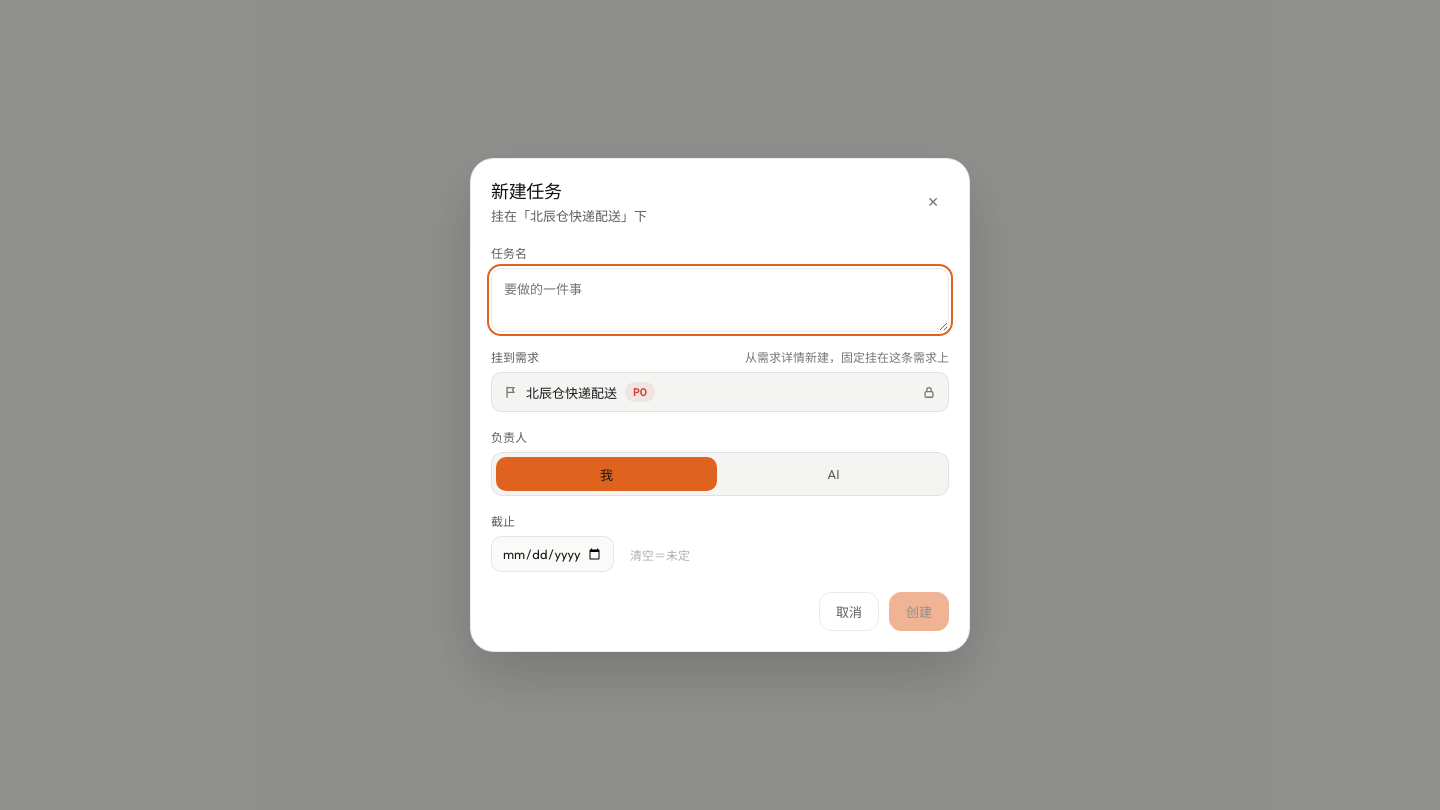
TaskEditModal 从需求详情新建（fixedRequirement，R05-6，S12-c） › 创建失败：原因写在弹窗里，弹窗不关，需求还是固定的那一条
This screenshot has width=1440, height=810.
Type "整理本周产品周报" into the text box with placeholder "要做的一件事". click: (720, 300)
box: [491,268,949,332]
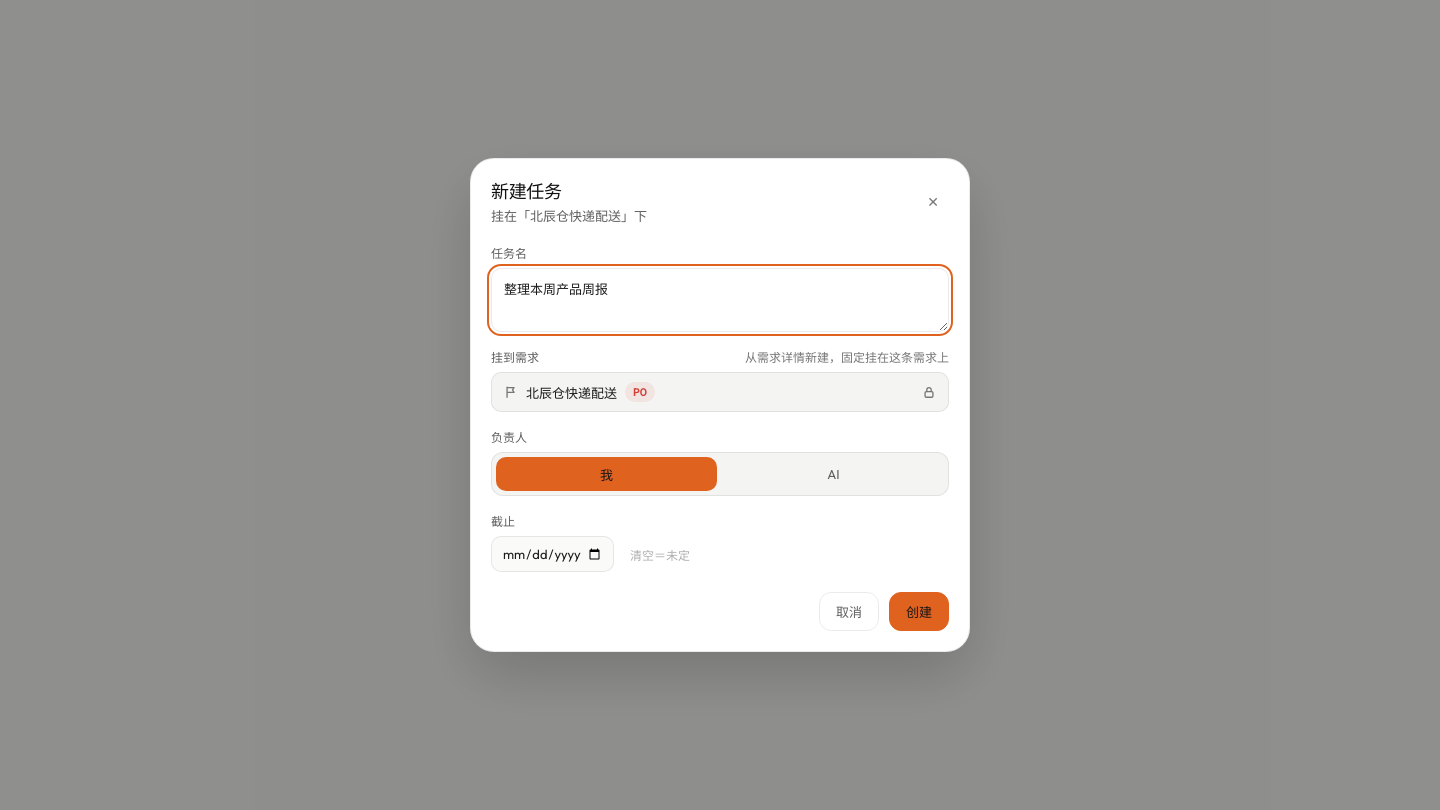
Click the button "创建". click: (919, 612)
box: [889,592,949,631]
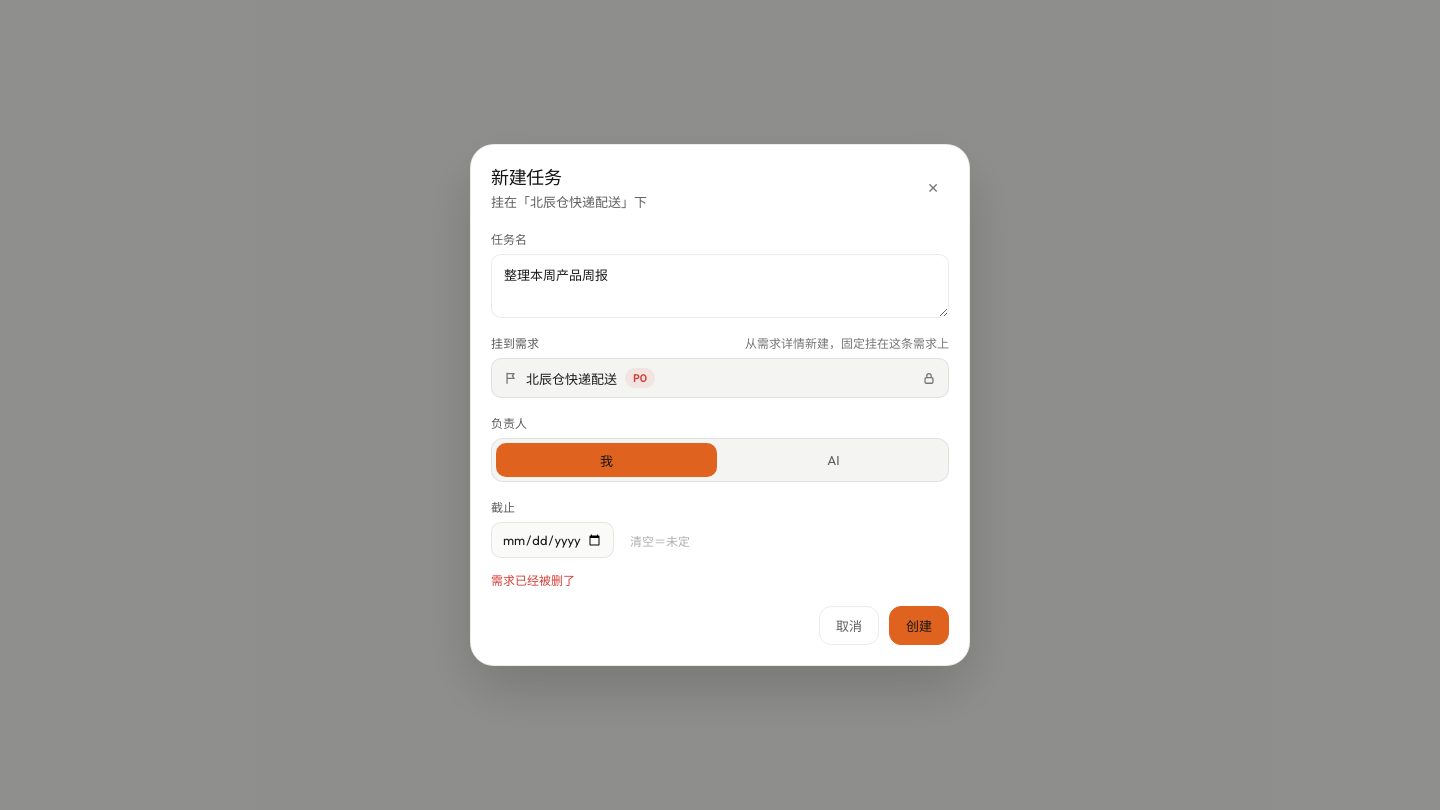
Expected: the element named "挂到需求" shows "北辰仓快递配送", [526,371,617,387]
Now the message reads "需求已经被删了", box [491,573,575,588]
